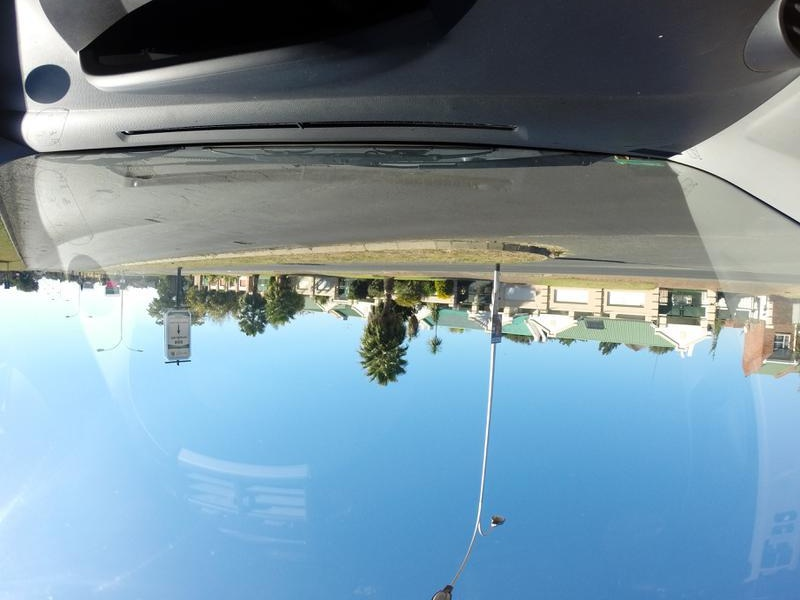pothole: (90, 187, 119, 197), (232, 239, 252, 247), (145, 216, 165, 221)
